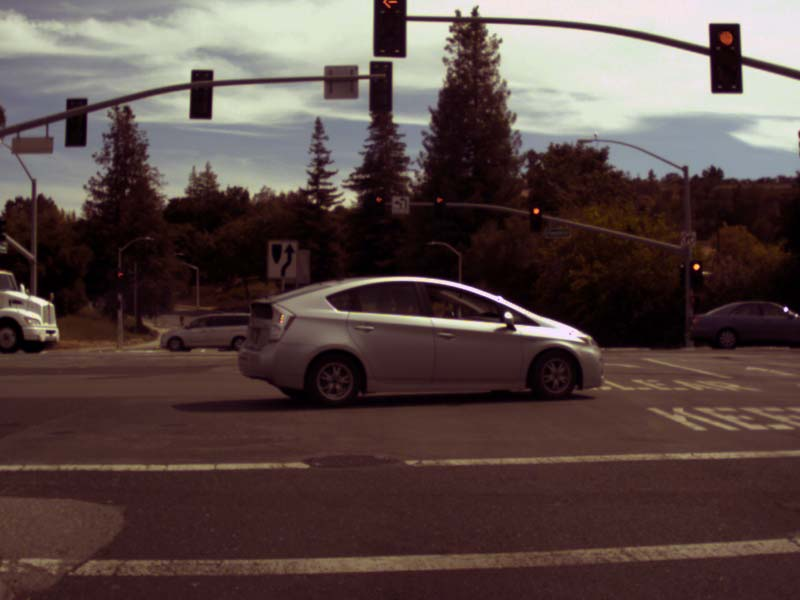Red: (710, 22, 740, 93), (689, 260, 702, 290), (530, 205, 541, 232), (434, 194, 443, 216), (374, 194, 383, 215), (116, 270, 124, 287)
